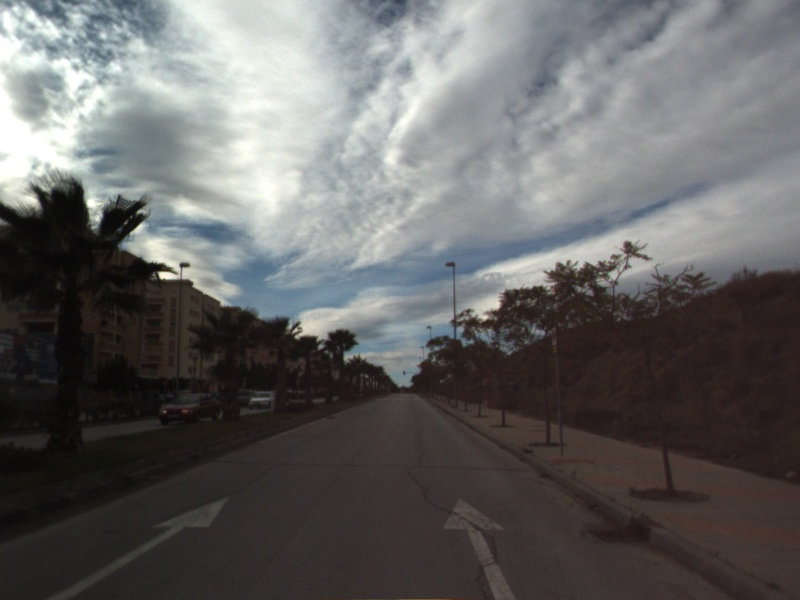STRAIGHT: (42, 494, 233, 600), (440, 495, 520, 600)
